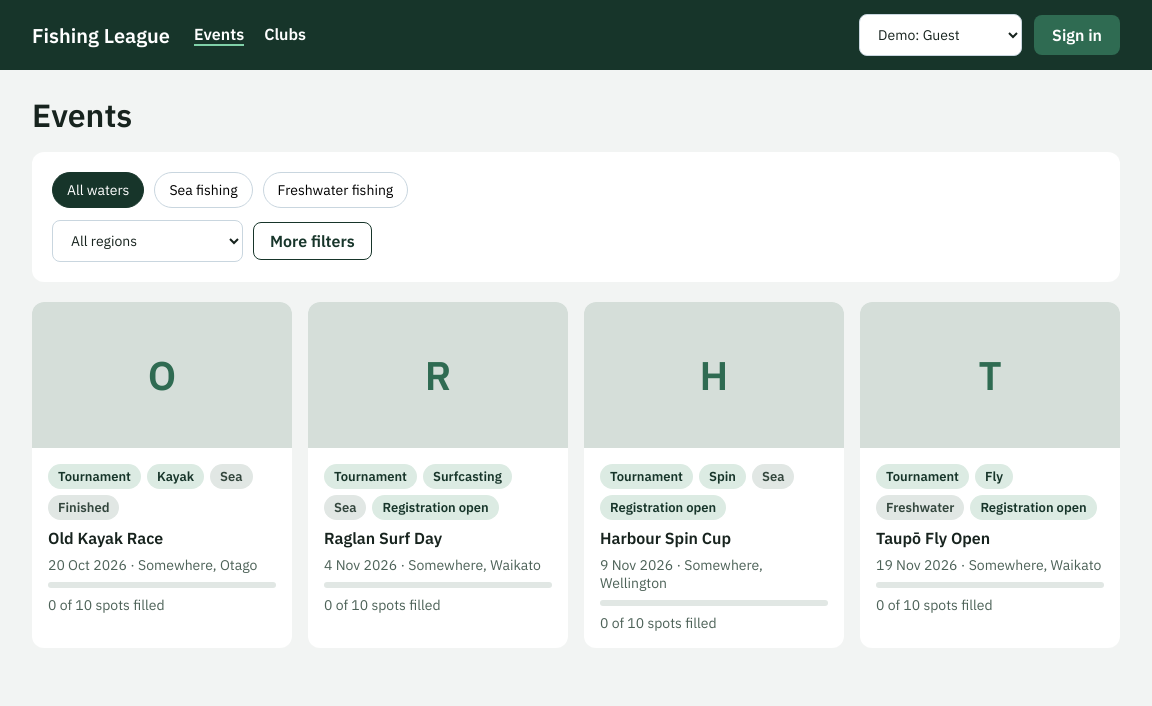
Test: advanced search › Clear all puts everything back
The image size is (1152, 706).
Check: the text "Taupō Fly Open" is shown, box [876,528,990,548]
Check: the text "Clear all" is not shown
Click the button "Sea fishing": (204, 190) [154,172,253,208]
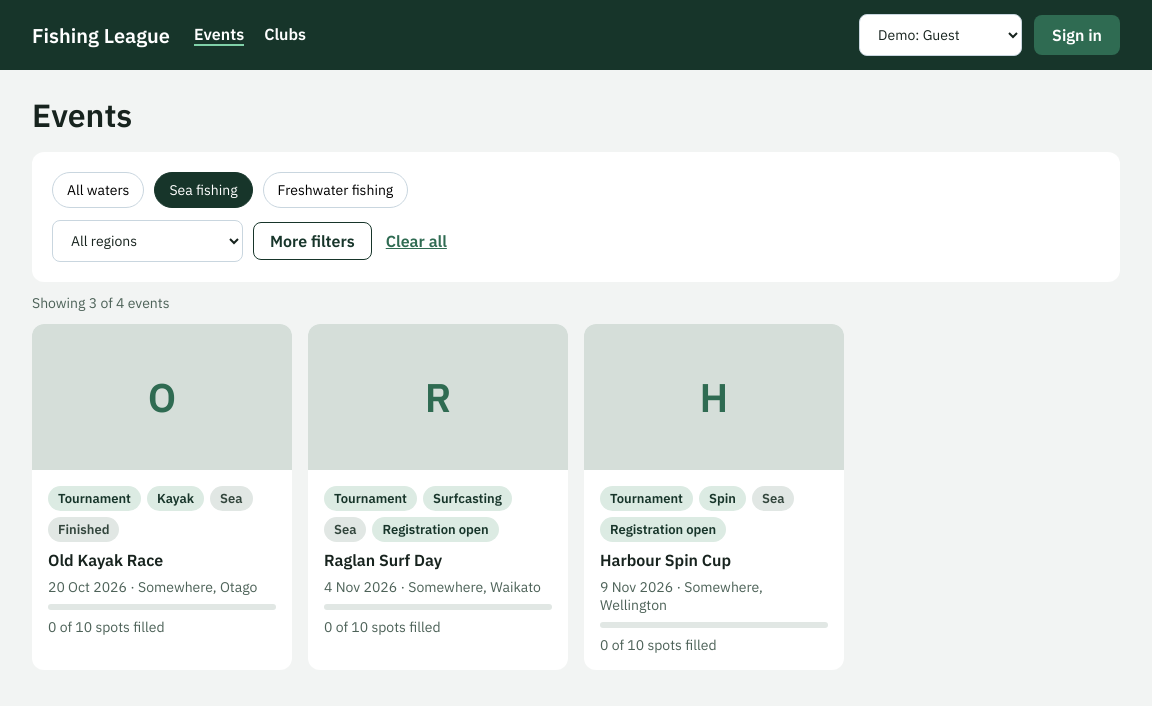
Select "Wellington" in the dropdown named "Region": (148, 241) [52,220,243,262]
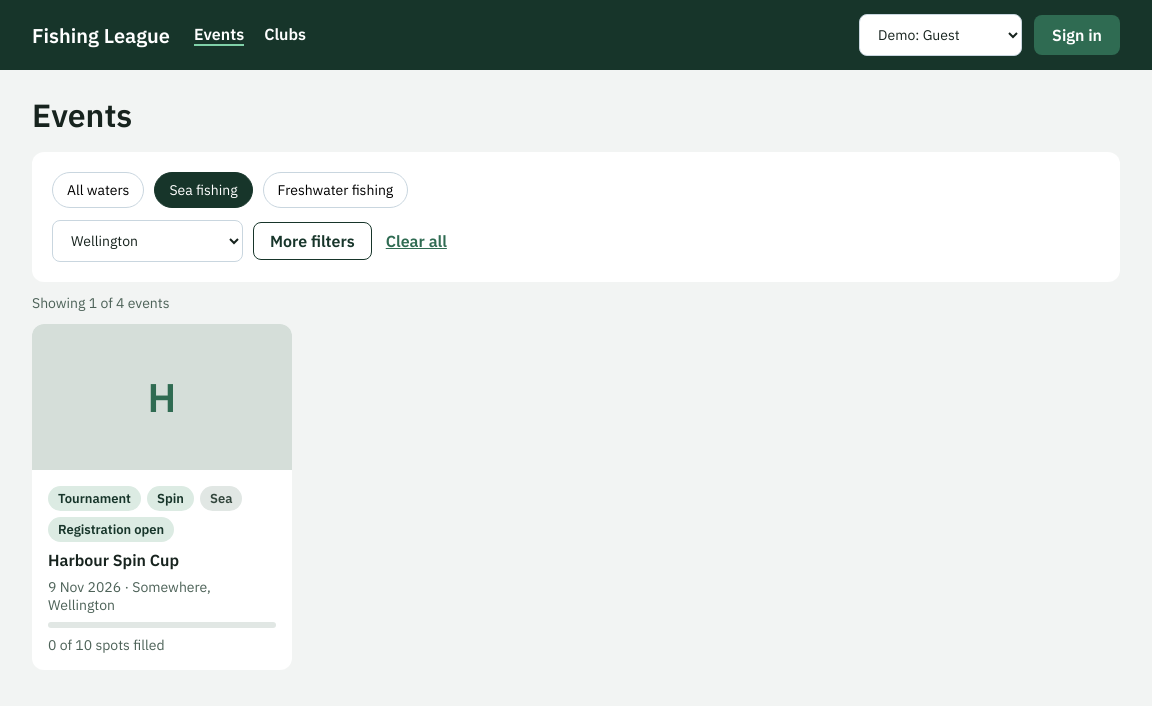
Click the button "More filters": (312, 241) [253,222,372,260]
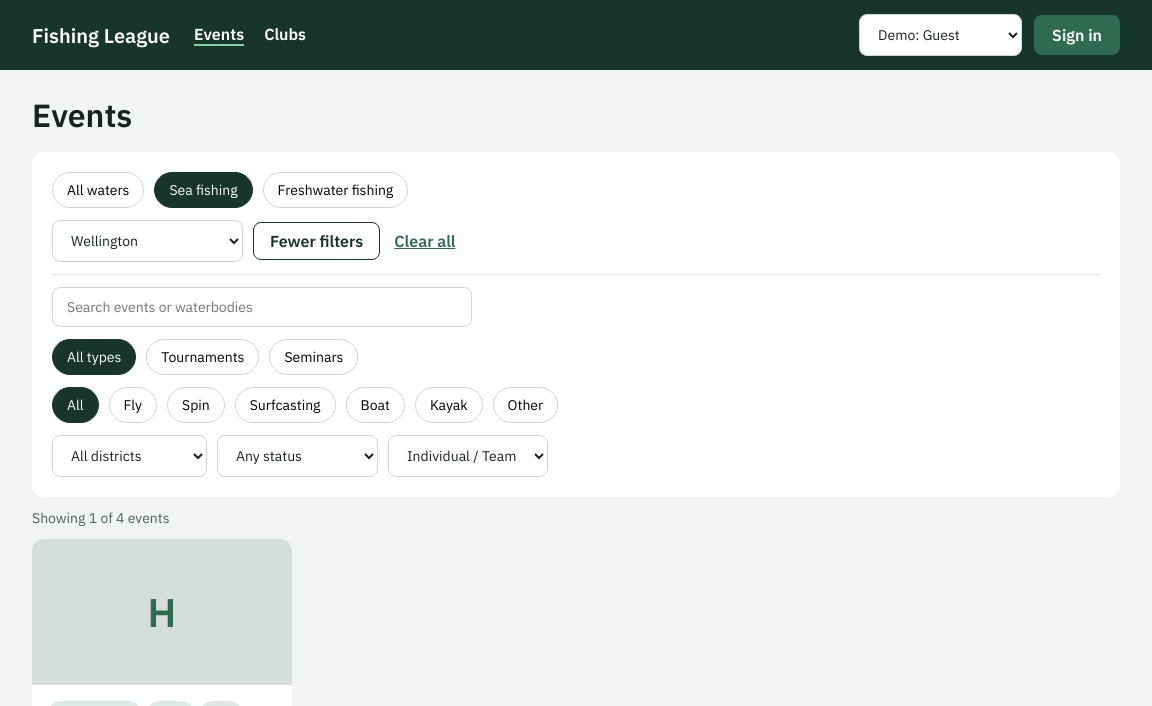
Select "Team" in the dropdown named "Format": (468, 456) [388,435,548,477]
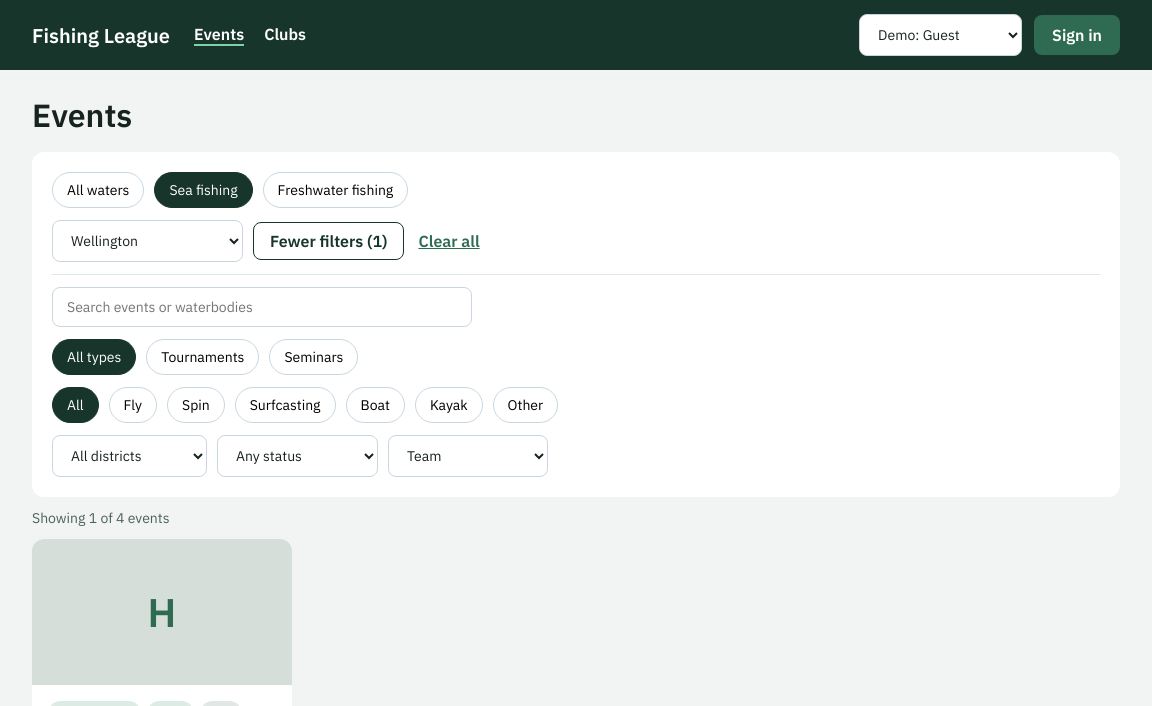
Click the button "Clear all": (449, 241) [414,223,484,259]
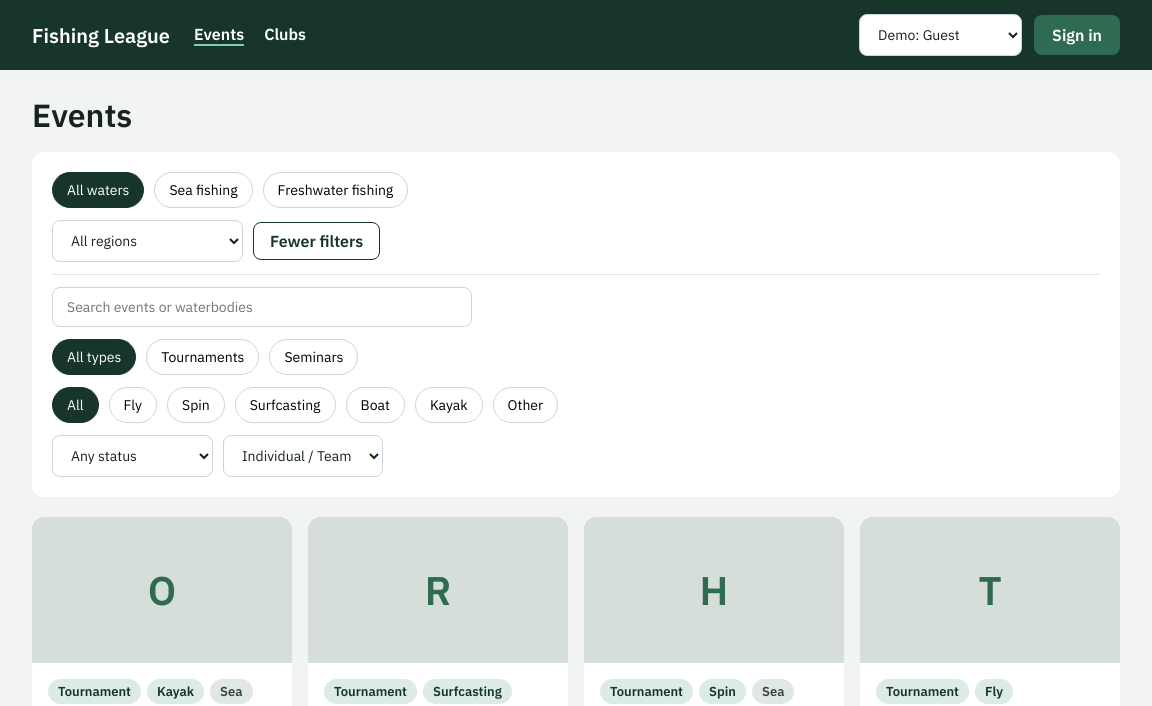
Check: the button "Fewer filters" is shown, box [253,222,380,260]
Check: the button "Clear all" is gone
